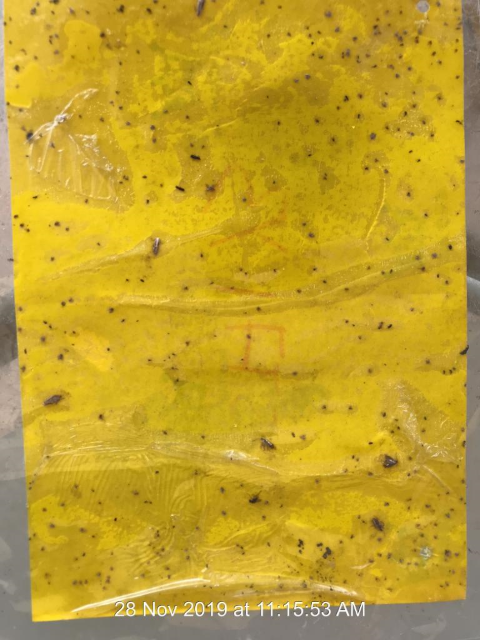DBM: (252, 434, 276, 452), (381, 450, 400, 470), (42, 392, 65, 408), (148, 236, 165, 256), (369, 515, 385, 534), (194, 1, 206, 18)
